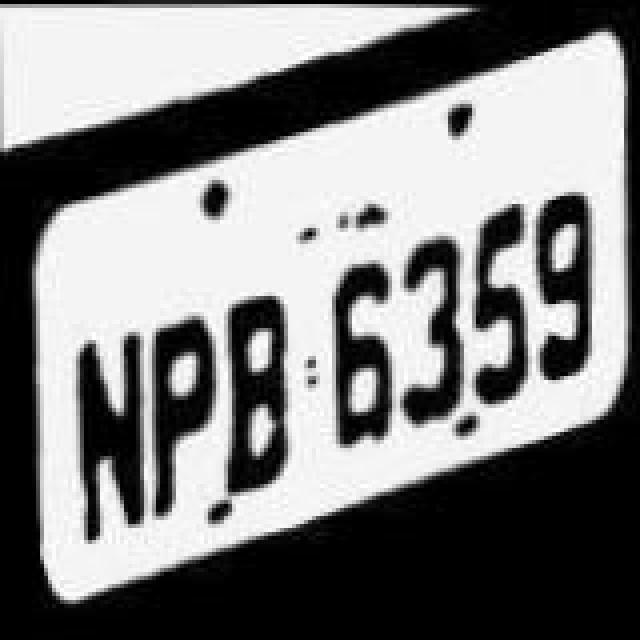3: (392, 224, 468, 436)
5: (466, 198, 530, 430)
6: (314, 260, 394, 484)
9: (530, 182, 602, 398)
B: (218, 280, 302, 516)
N: (68, 312, 148, 580)
P: (140, 300, 220, 540)
